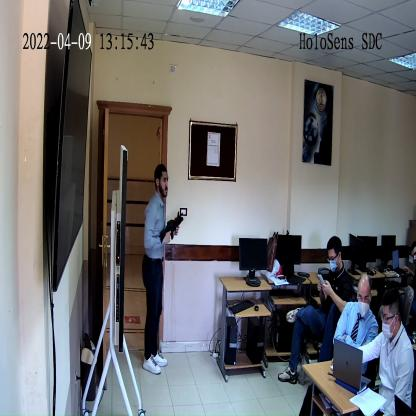handgun: (159, 209, 186, 247)
